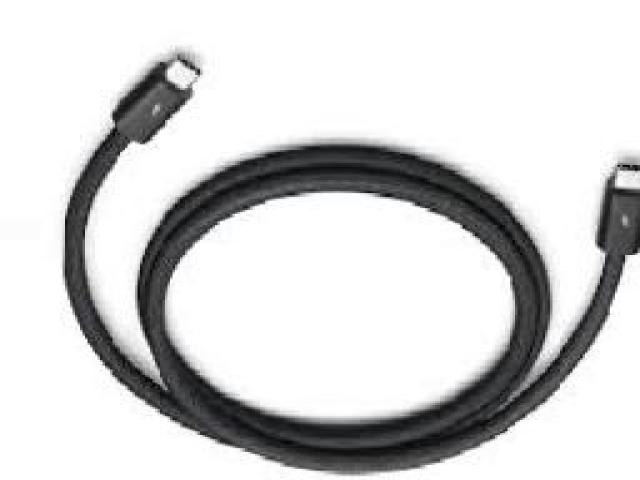wire: (64, 53, 640, 471)
